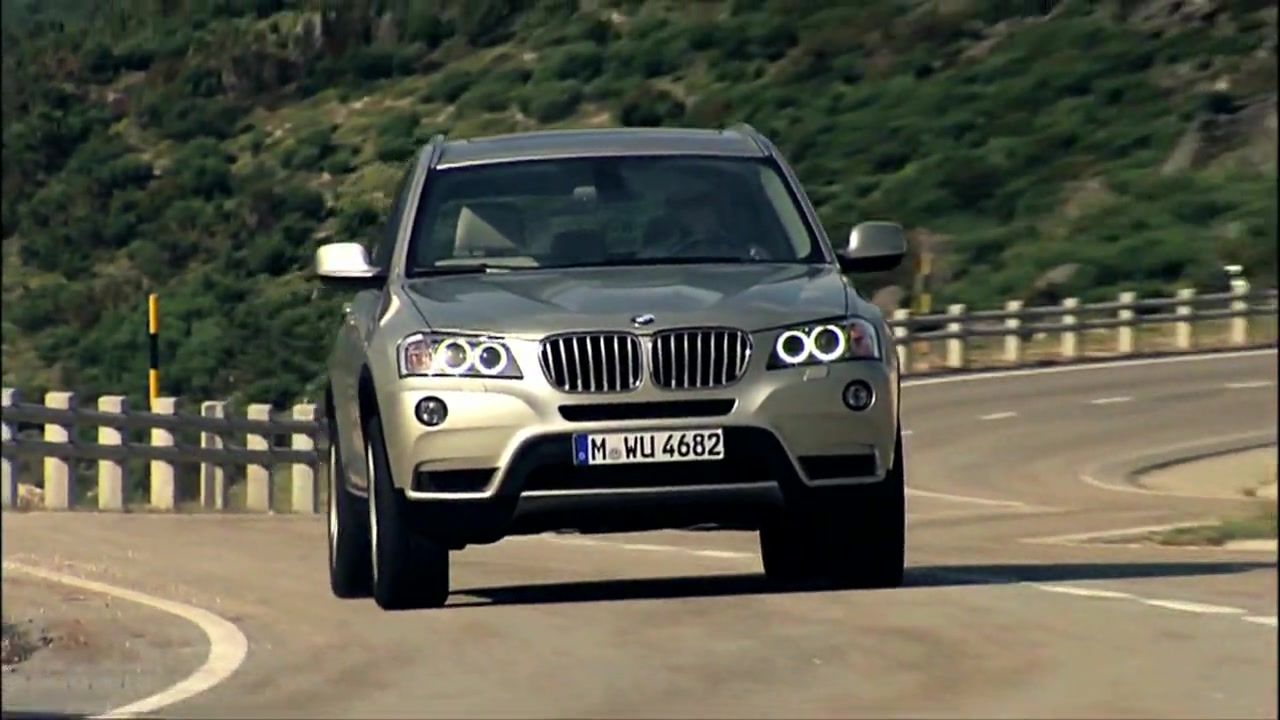car: (308, 120, 917, 612)
